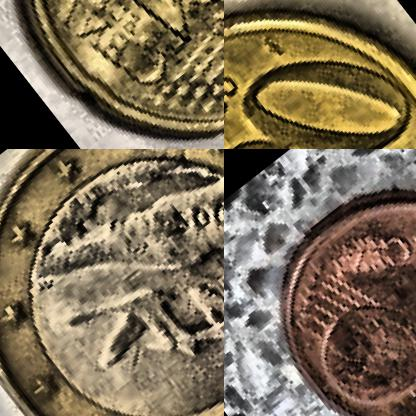coin: (0, 149, 223, 415), (233, 149, 415, 415), (0, 0, 223, 148), (224, 0, 415, 148)
